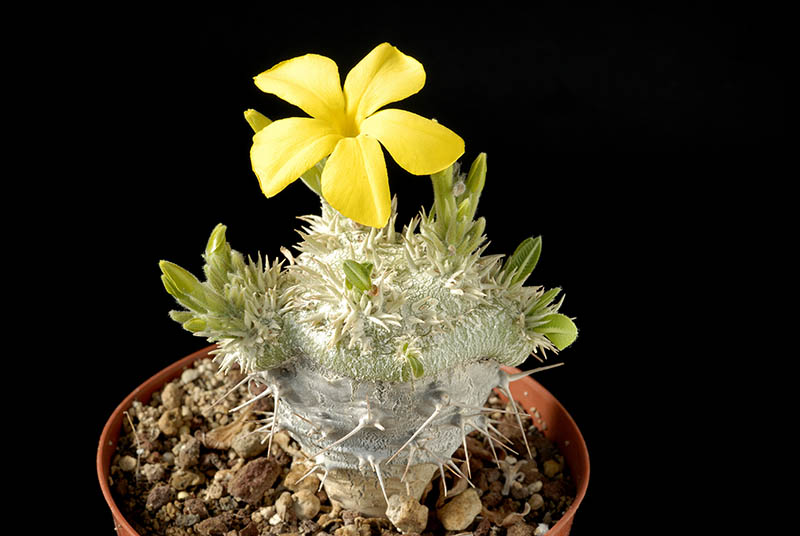Pachypodium brevicaule: (208, 47, 584, 510)
